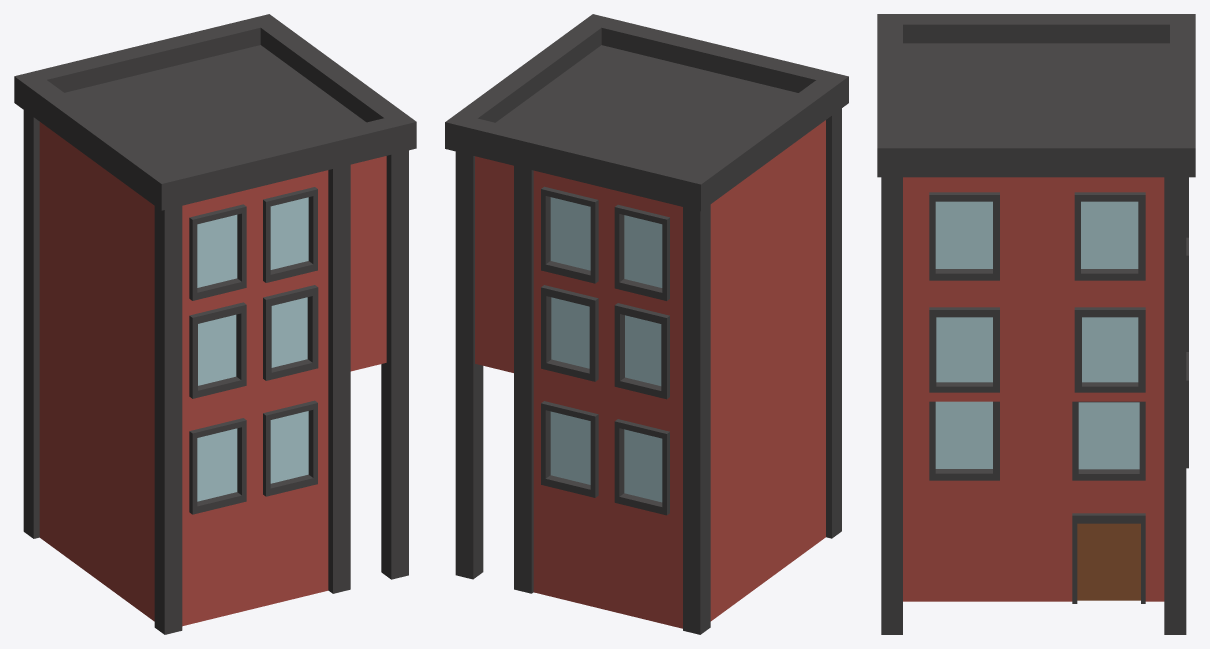
File: house_entrance002.fbx
The picture shows the model from 3 angles, left to right: view 1: azimuth 30°, elevation 25°; view 2: azimuth 150°, elevation 25°; view 3: azimuth 270°, elevation 25°; orthographic projection. The views are drawn at different scales.
Visible parts, largest first — view 1: Base.114; view 2: Base.114; view 3: Base.114.
Part boxes in pixels (left/top/right/bottom): Base.114: left=14, top=14, right=416, bottom=634; Base.114: left=445, top=14, right=848, bottom=634; Base.114: left=877, top=14, right=1195, bottom=634.
Size of the model in its own units: 875 by 1485 by 875.
